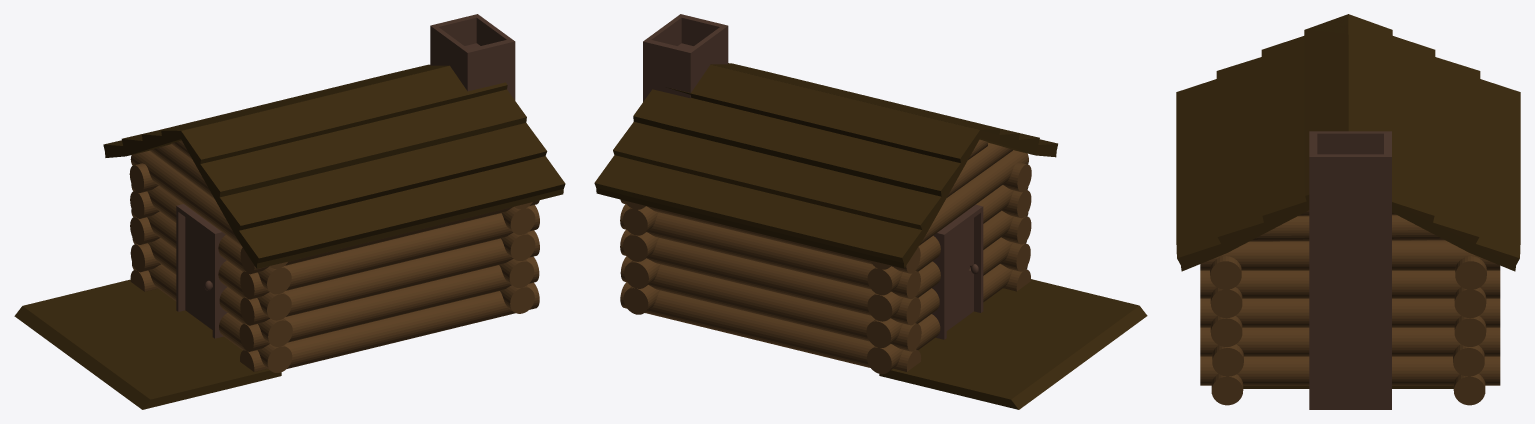
The model's file is cabin.fbx.
The picture shows the model from 3 angles, left to right: view 1: azimuth 30°, elevation 25°; view 2: azimuth 150°, elevation 25°; view 3: azimuth 270°, elevation 25°; orthographic projection. The views are drawn at different scales.
Parts seen in each view (by area): view 1: Body, Circle, Circle.001, Cube.001, Cube; view 2: Body, Circle, Circle.001, Cube.001, Cube; view 3: Body, Circle.001, Cube.001, Circle.
Part boxes in pixels (x1=…): Body: x1=14, y1=64, x2=565, y2=409; Circle: x1=129, y1=163, x2=539, y2=371; Circle.001: x1=130, y1=140, x2=535, y2=372; Cube.001: x1=430, y1=14, x2=515, y2=100; Cube: x1=176, y1=204, x2=227, y2=338; Body: x1=594, y1=63, x2=1147, y2=409; Circle: x1=620, y1=162, x2=1031, y2=371; Circle.001: x1=623, y1=139, x2=1028, y2=374; Cube.001: x1=643, y1=14, x2=728, y2=101; Cube: x1=932, y1=204, x2=983, y2=339; Body: x1=1176, y1=14, x2=1520, y2=388; Circle.001: x1=1200, y1=210, x2=1500, y2=385; Cube.001: x1=1309, y1=131, x2=1391, y2=409; Circle: x1=1210, y1=256, x2=1486, y2=405.
Bounding box in the file's own units: 5750 × 3073 × 3700.
